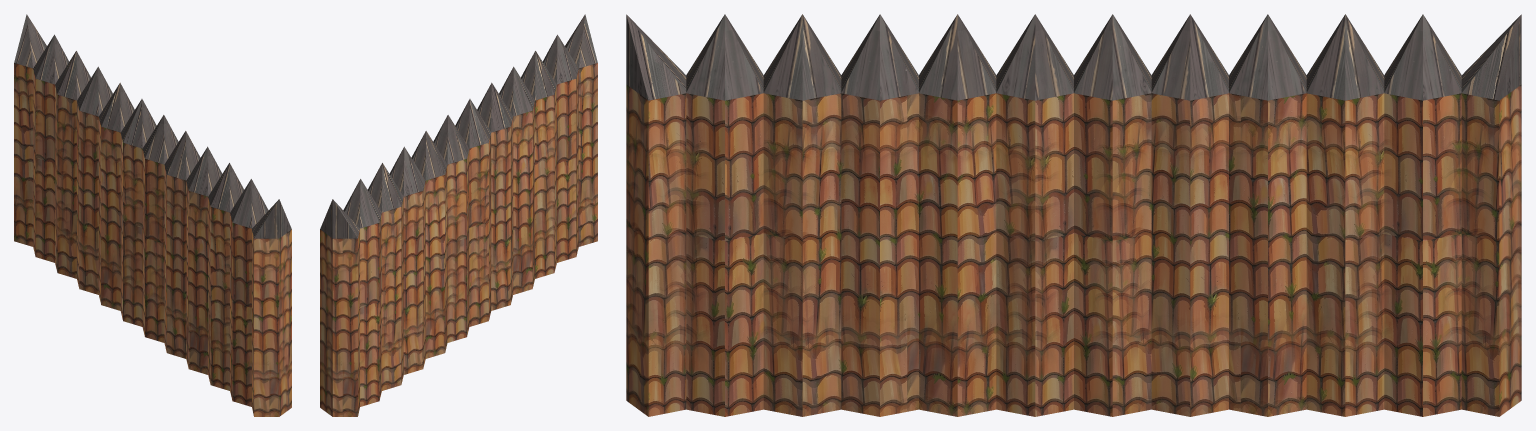
File: fence_wood_straight.gltf
3 renders of one model, left to right at view 1: azimuth 30°, elevation 25°; view 2: azimuth 150°, elevation 25°; view 3: azimuth 270°, elevation 25°, orthographic. The views are drawn at different scales.
Visible parts, largest first — view 1: fence_wood_straight; view 2: fence_wood_straight; view 3: fence_wood_straight.
Part boxes in pixels (bbox=[...]): fence_wood_straight: bbox=[14, 14, 291, 416]; fence_wood_straight: bbox=[320, 14, 597, 416]; fence_wood_straight: bbox=[626, 14, 1521, 416].
Size of the model in its own units: 0.1 by 0.55 by 1.15.
Materials: 2 (2 with a texture image).
